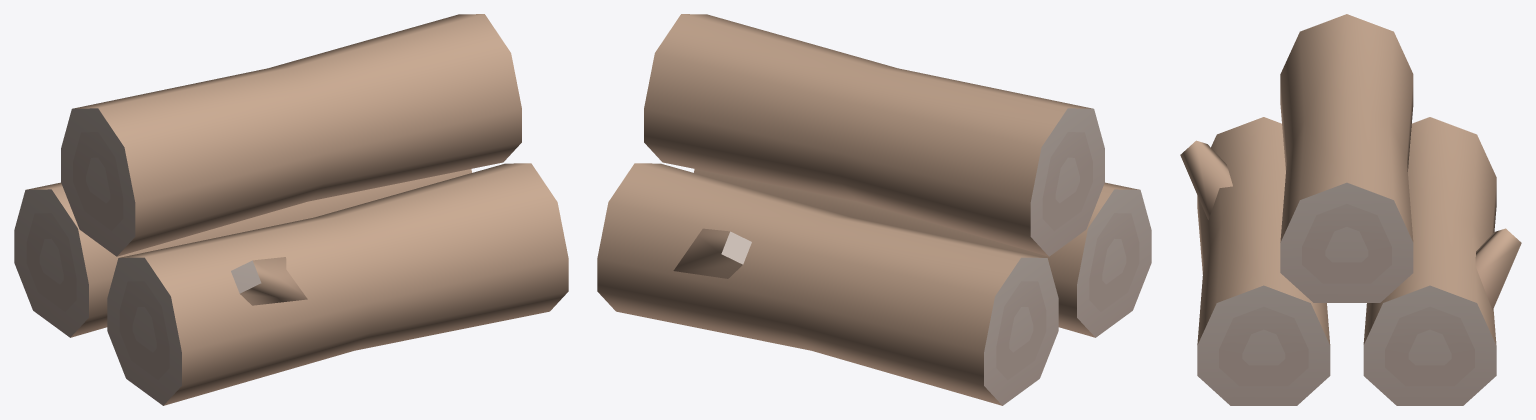
The model's file is logs-stack.glb.
The picture shows the model from 3 angles, left to right: view 1: azimuth 30°, elevation 25°; view 2: azimuth 150°, elevation 25°; view 3: azimuth 270°, elevation 25°; orthographic projection. The views are drawn at different scales.
Parts seen in each view (by area): view 1: logs-stack; view 2: logs-stack; view 3: logs-stack.
Part boxes in pixels (x1,y1,x2,y2): logs-stack: [14, 14, 568, 405]; logs-stack: [597, 14, 1151, 405]; logs-stack: [1180, 14, 1521, 405].
Bounding box in the file's own units: 0.3 × 0.1854 × 0.2569.
